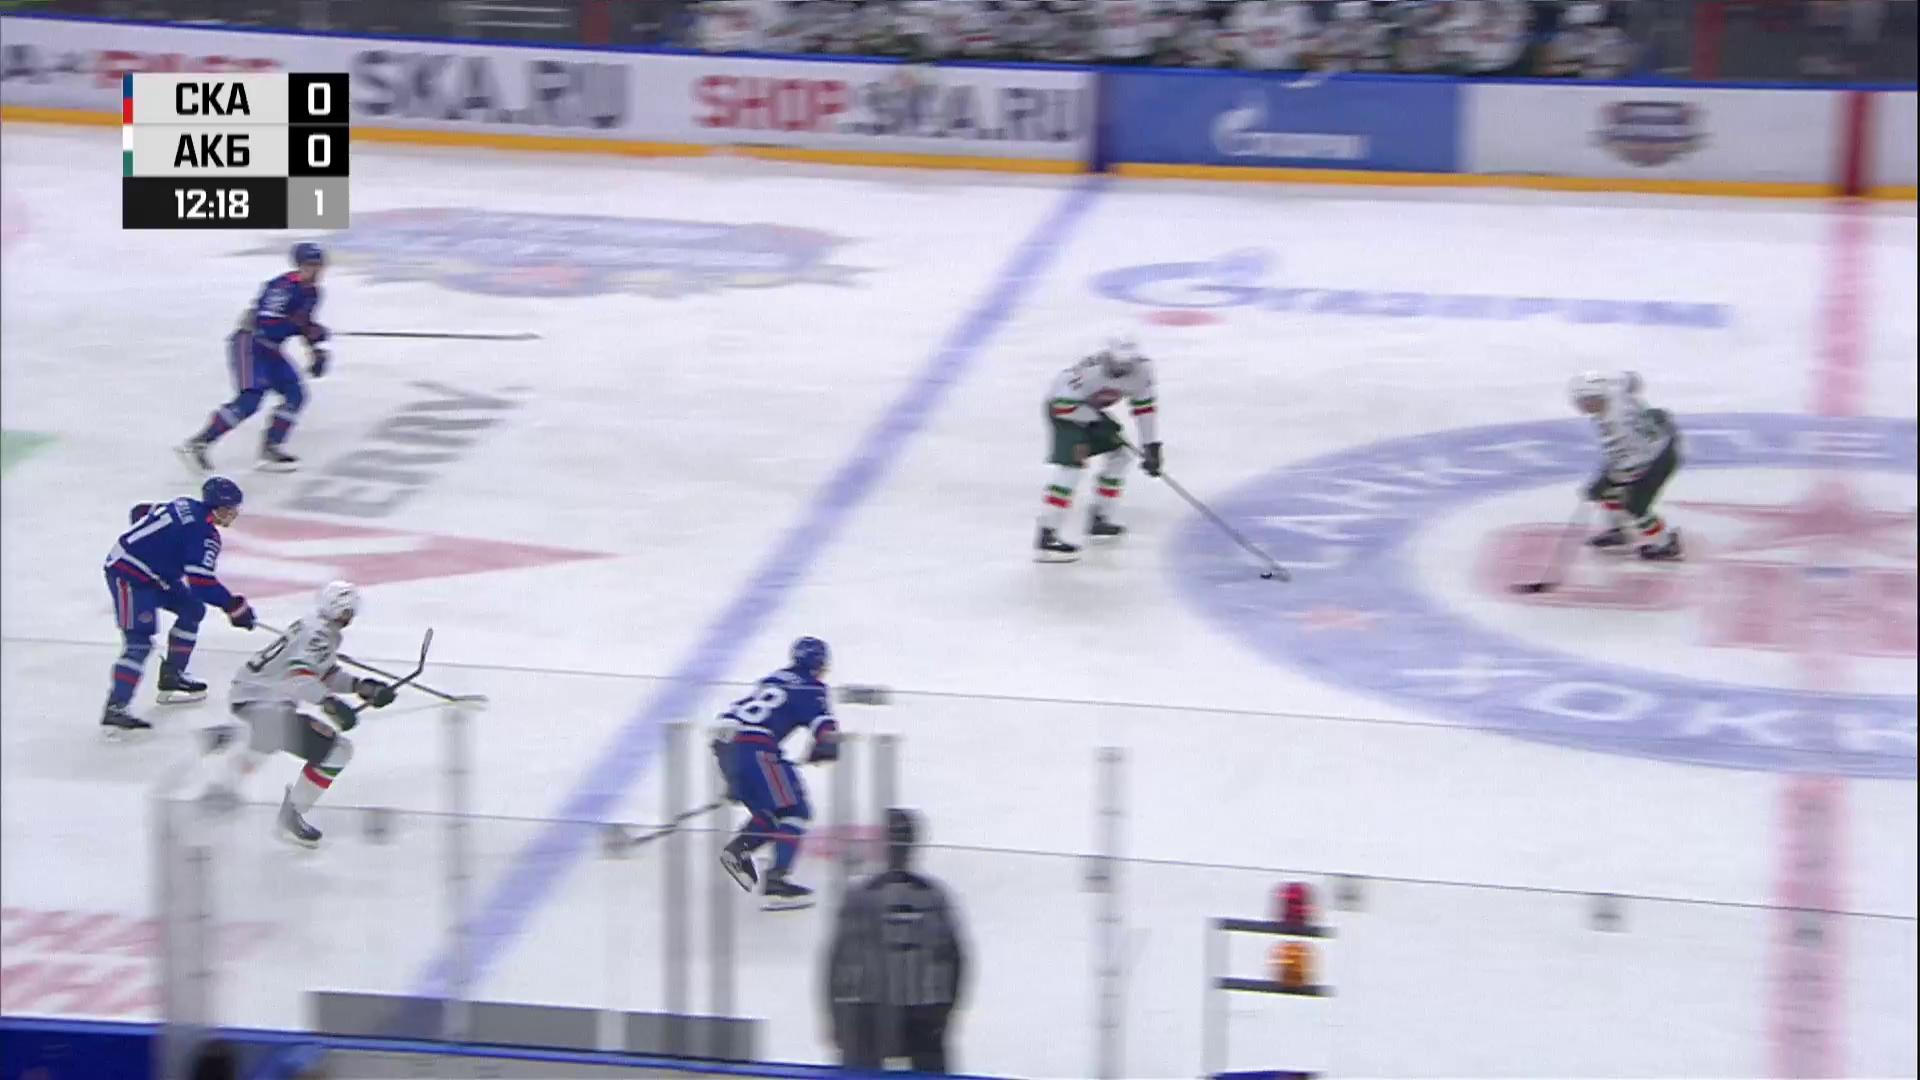ball: (1259, 571, 1275, 580)
